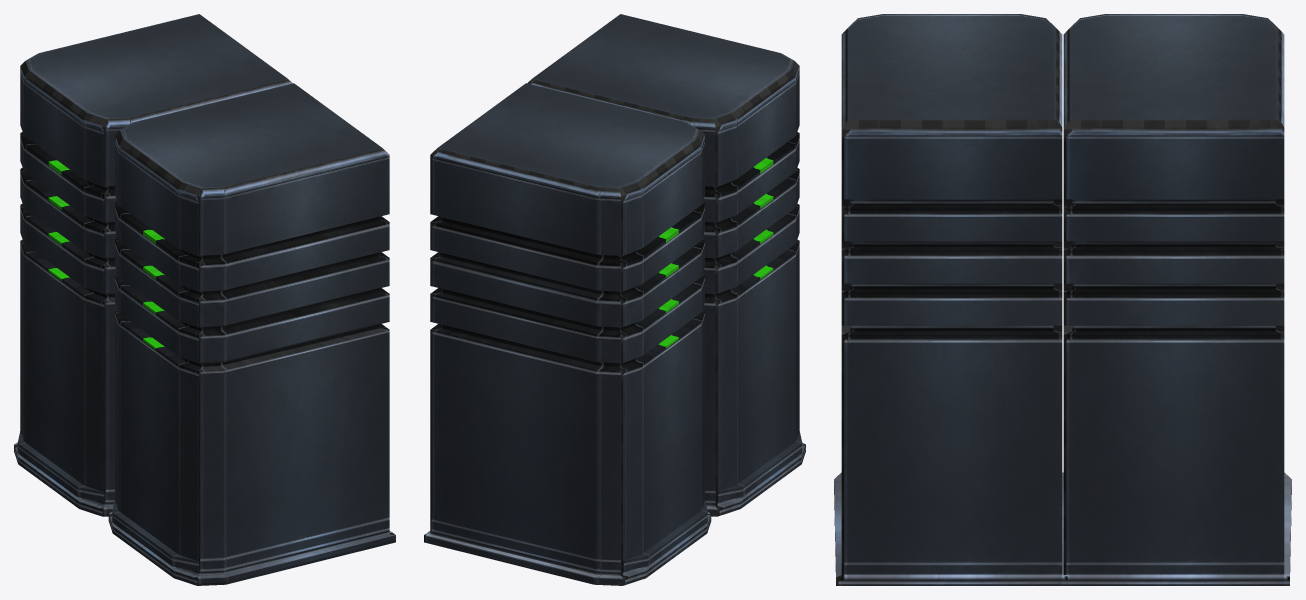
The model's file is servers.obj.
3 renders of one model, left to right at view 1: azimuth 30°, elevation 25°; view 2: azimuth 150°, elevation 25°; view 3: azimuth 270°, elevation 25°, orthographic. The views are drawn at different scales.
Parts seen in each view (by area): view 1: server02, server01; view 2: server01, server02; view 3: server02, server01.
Part boxes in pixels (x1,y1,x2,y2): server02: (108, 83, 395, 585); server01: (14, 14, 292, 516); server01: (424, 83, 711, 585); server02: (527, 14, 805, 516); server02: (834, 14, 1067, 585); server01: (1058, 14, 1291, 585).
Size of the model in its own units: 3.29 by 6.04 by 5.43.
Materials: 2 (2 with a texture image).
